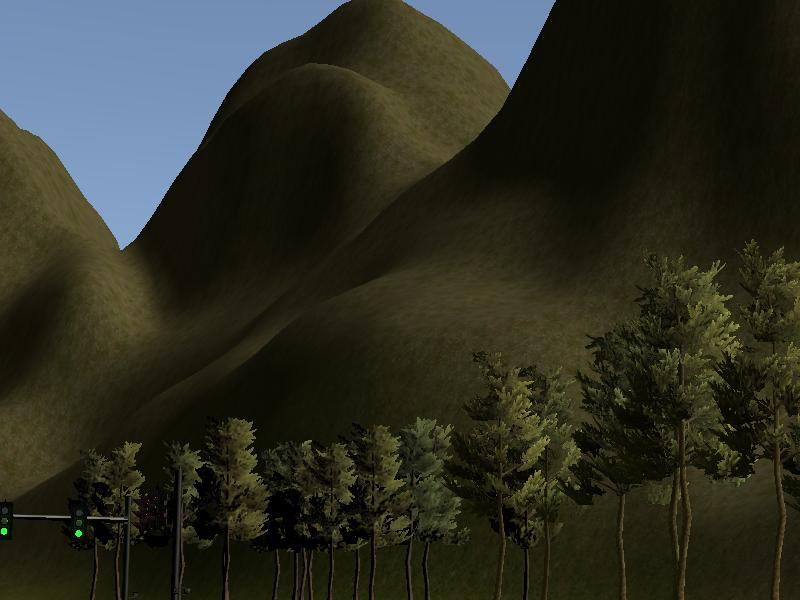Green: (71, 505, 86, 539), (1, 503, 13, 541)
